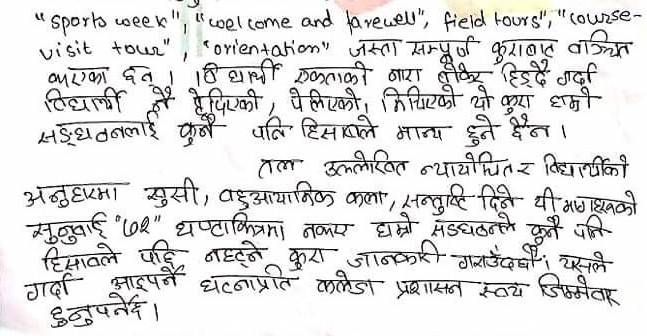text: (33, 112, 160, 147), (217, 179, 337, 213), (174, 210, 288, 239), (48, 298, 146, 330), (535, 273, 624, 308), (27, 210, 110, 247), (344, 238, 442, 269), (199, 262, 292, 294), (451, 241, 540, 273), (19, 181, 120, 209), (419, 149, 514, 178), (542, 150, 633, 180), (324, 148, 410, 179), (399, 182, 471, 217), (41, 241, 120, 272), (378, 82, 457, 113), (42, 87, 128, 115), (430, 212, 519, 239), (199, 58, 281, 87), (184, 86, 261, 116), (566, 27, 635, 60), (291, 60, 370, 88), (301, 114, 377, 143), (555, 188, 639, 214), (288, 86, 363, 114), (405, 33, 476, 62), (488, 35, 560, 62), (146, 176, 201, 209), (203, 239, 265, 268), (109, 266, 179, 291), (393, 276, 464, 300), (498, 60, 551, 91), (23, 273, 74, 303), (315, 272, 376, 297), (176, 113, 218, 148), (46, 65, 111, 87), (373, 210, 415, 241), (549, 87, 597, 114), (137, 239, 181, 268), (435, 62, 488, 86), (557, 249, 610, 273), (506, 114, 553, 141), (462, 113, 497, 149), (255, 153, 301, 180), (347, 37, 403, 59), (477, 182, 516, 213), (394, 122, 447, 144), (556, 61, 599, 88), (285, 245, 326, 273), (249, 116, 289, 144), (301, 220, 351, 242), (528, 215, 563, 245), (572, 214, 609, 242), (477, 280, 526, 299), (498, 90, 534, 115), (121, 62, 157, 86), (344, 189, 386, 209), (120, 214, 152, 238), (533, 185, 559, 214), (468, 84, 494, 112), (386, 65, 423, 84), (152, 85, 175, 111), (515, 160, 534, 177)
